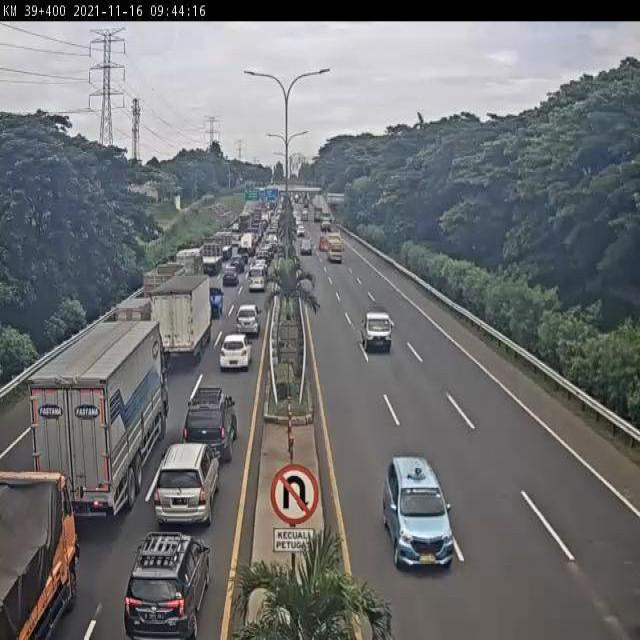car: (119, 520, 220, 640), (381, 447, 463, 582), (153, 428, 230, 537), (179, 376, 251, 468), (212, 326, 264, 378), (359, 307, 398, 368), (235, 295, 266, 340), (209, 280, 228, 323), (247, 264, 270, 293), (221, 261, 242, 291), (297, 238, 316, 258)
small truck: (112, 288, 156, 332), (325, 233, 350, 268)
truck-l-: (30, 320, 174, 516)
truck-m-: (0, 466, 94, 640), (150, 270, 216, 362)
